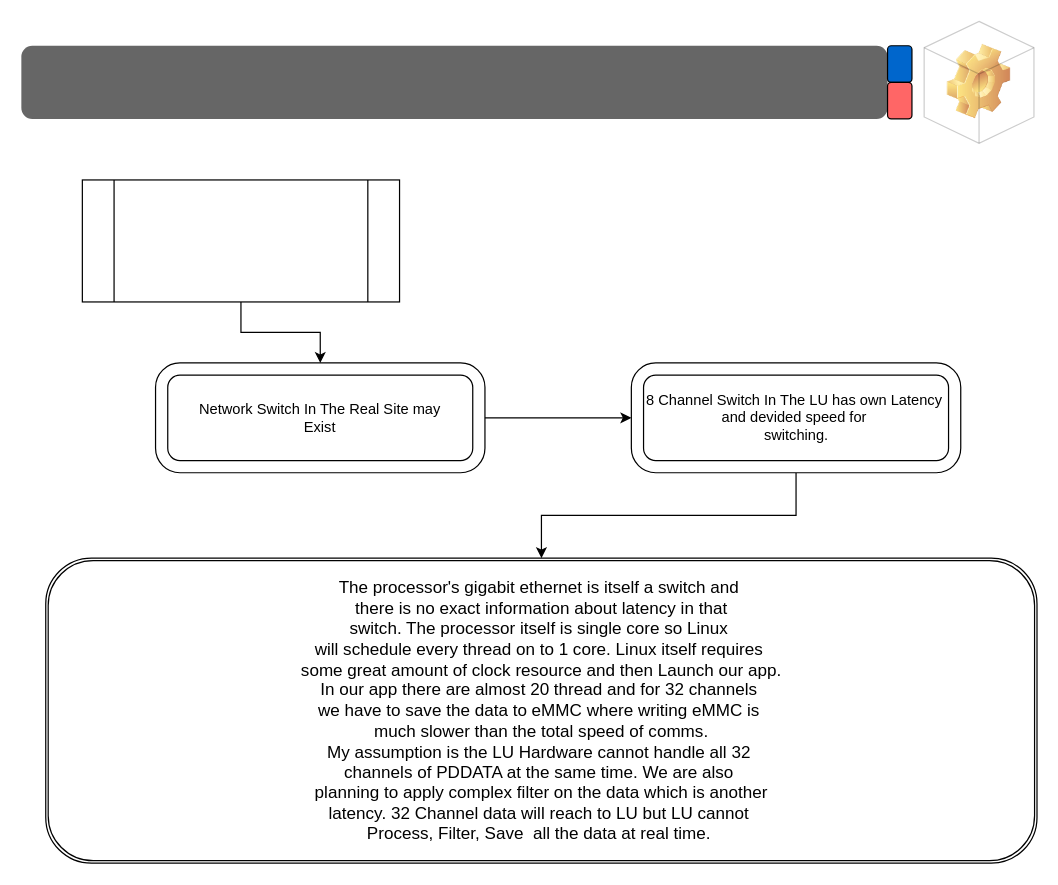
This 1058x885 diagram has some shape labels left out. The box of each missing label's shape, as (x1, y1, x2, y2) in pixels:
Assumption of total latency: (21, 45, 887, 118)
PDDAU 32 Channel x 122.88 KB/s = 3.9 MB/s Approx 6MB/s for packet frames.: (81, 179, 400, 302)
